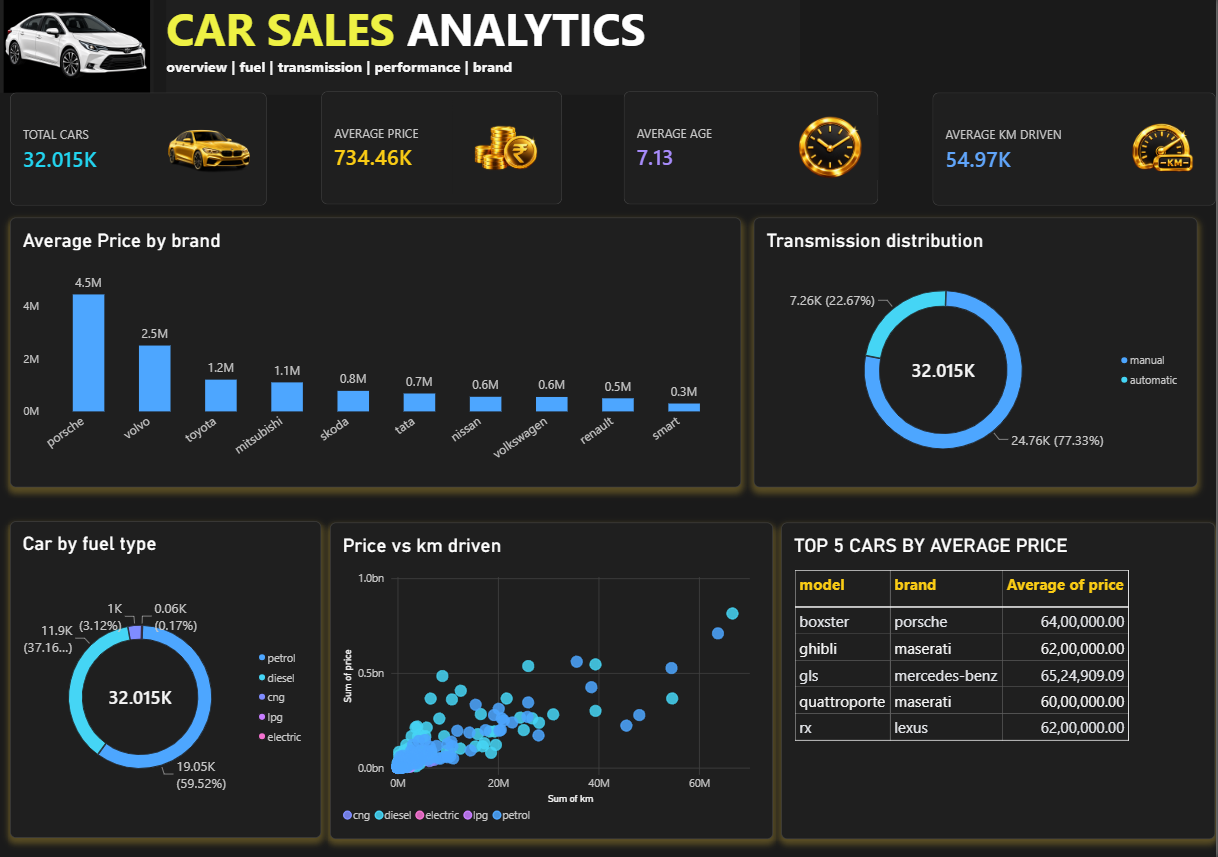

Layout of this report page (visuals, bound fields, positions):
{"tool":"powerbi","page":{"name":"Page 1","canvas":[1600,1140],"ordinal":0},"visuals":[{"type":"image","box":[0,0,202.4,128.6],"z":0},{"type":"textbox","box":[218.9,3.3,834.3,128.3],"z":1000},{"type":"cardVisual","fields":{"Data":["Avg(car.price)"]},"box":[422.9,126.7,317.6,149.7],"z":2000},{"type":"cardVisual","fields":{"Data":["CountNonNull(car.model)"]},"box":[13.2,128.3,339,149.7],"z":3000},{"type":"cardVisual","fields":{"Data":["Avg(car.age)"]},"box":[821.1,126.7,335.7,149.7],"z":4000},{"type":"cardVisual","fields":{"Data":["Avg(car.km)"]},"box":[1227.5,128.3,373.5,149.7],"z":5000},{"type":"columnChart","title":"Average Price by brand","fields":{"Category":["car.brand"],"Y":["car.average"]},"box":[13.7,293.3,962.3,355.1],"z":6000},{"type":"donutChart","title":"Transmission distribution","fields":{"Category":["car.transmission"],"Y":["CountNonNull(car.model)"]},"box":[992.2,292.9,584.2,355.4],"z":7000},{"type":"scatterChart","title":"Price vs km driven","fields":{"X":["Sum(car.km)"],"Y":["Sum(car.price)"],"Series":["car.fuel"],"Category":["car.model"]},"box":[434.4,694.4,583.2,416.8],"z":8000},{"type":"donutChart","title":"Car by fuel type","fields":{"Category":["car.fuel"],"Y":["CountNonNull(car.model)"]},"box":[13.2,692.8,409.9,416.8],"z":9000},{"type":"tableEx","title":"TOP 5 CARS BY AVERAGE PRICE","fields":{"Values":["car.model","car.brand","Avg(car.price)"]},"box":[1028.4,694.4,571.2,416.8],"z":10000},{"type":"image","box":[218.9,153,113.5,97.1],"z":11000},{"type":"image","box":[595.7,138.2,130,123.4],"z":12000},{"type":"image","box":[1028.4,158,128.3,85.6],"z":13000},{"type":"image","box":[1481,143.2,95.4,120.1],"z":14000}]}

Visuals, with their boxes in screenshot pixels (x1, y1, x2, y2), scaled from the page's 1600x1140 canvas onto the 1218x857 screenshot:
image: bbox(0, 0, 154, 97)
textbox: bbox(167, 2, 802, 99)
cardVisual - Avg(car.price): bbox(322, 95, 564, 208)
cardVisual - CountNonNull(car.model): bbox(10, 96, 268, 209)
cardVisual - Avg(car.age): bbox(625, 95, 881, 208)
cardVisual - Avg(car.km): bbox(934, 96, 1217, 209)
"Average Price by brand" columnChart: bbox(10, 220, 743, 487)
"Transmission distribution" donutChart: bbox(755, 220, 1200, 487)
"Price vs km driven" scatterChart: bbox(331, 522, 775, 835)
"Car by fuel type" donutChart: bbox(10, 521, 322, 834)
"TOP 5 CARS BY AVERAGE PRICE" tableEx: bbox(783, 522, 1217, 835)
image: bbox(167, 115, 253, 188)
image: bbox(453, 104, 552, 197)
image: bbox(783, 119, 881, 183)
image: bbox(1127, 108, 1200, 198)
